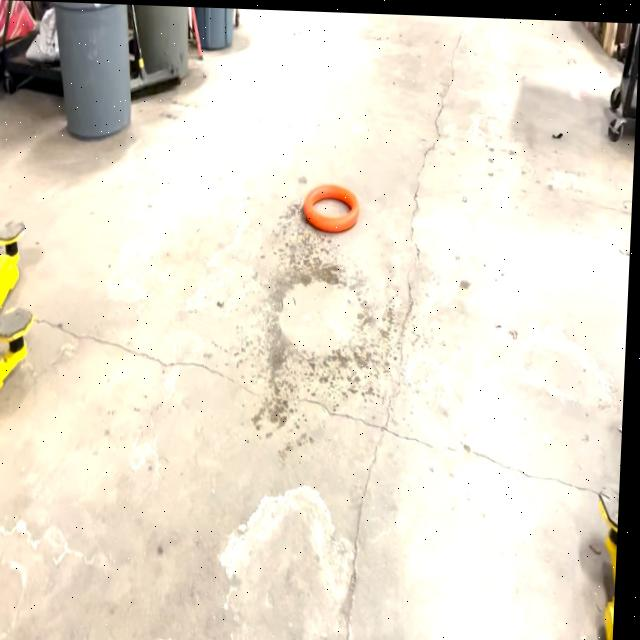note: (302, 175, 365, 234)
